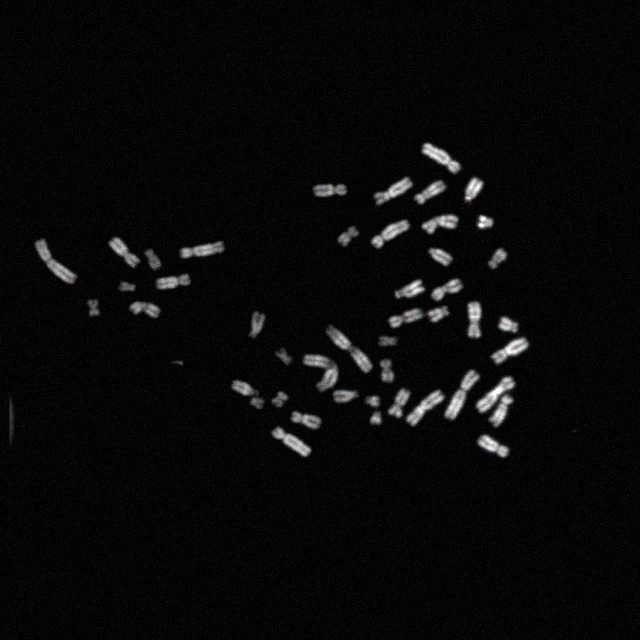chromosome: (326, 325, 372, 373), (36, 238, 77, 284), (446, 370, 478, 420), (302, 354, 338, 392), (407, 390, 445, 426), (477, 377, 515, 413), (422, 142, 460, 174), (271, 428, 311, 457), (375, 177, 413, 205), (372, 220, 410, 248), (492, 338, 528, 364), (110, 237, 138, 266), (414, 180, 446, 204), (490, 394, 512, 428), (478, 434, 508, 458), (181, 242, 224, 258), (433, 278, 463, 300), (422, 215, 458, 233), (390, 307, 422, 327), (396, 278, 426, 298), (466, 302, 482, 338), (292, 410, 320, 430), (389, 389, 409, 417), (157, 274, 191, 290), (130, 301, 160, 319), (232, 379, 260, 396), (466, 176, 484, 202), (314, 182, 346, 196), (338, 226, 358, 247), (488, 249, 508, 269), (250, 312, 264, 338), (144, 249, 162, 269), (430, 248, 452, 264), (499, 316, 518, 334), (428, 306, 449, 322), (334, 390, 358, 404), (275, 348, 291, 366), (272, 390, 288, 408), (381, 360, 394, 382), (88, 296, 100, 318), (379, 335, 397, 347), (478, 216, 494, 228), (118, 282, 134, 294), (252, 395, 264, 411), (364, 396, 380, 406), (370, 412, 380, 424)
